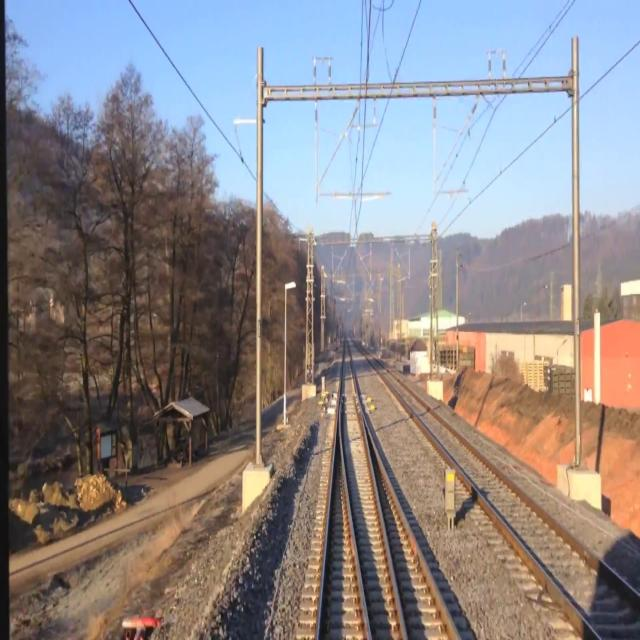rail-track: (370, 357, 640, 639), (341, 341, 402, 639), (369, 440, 456, 639), (320, 436, 367, 639)
